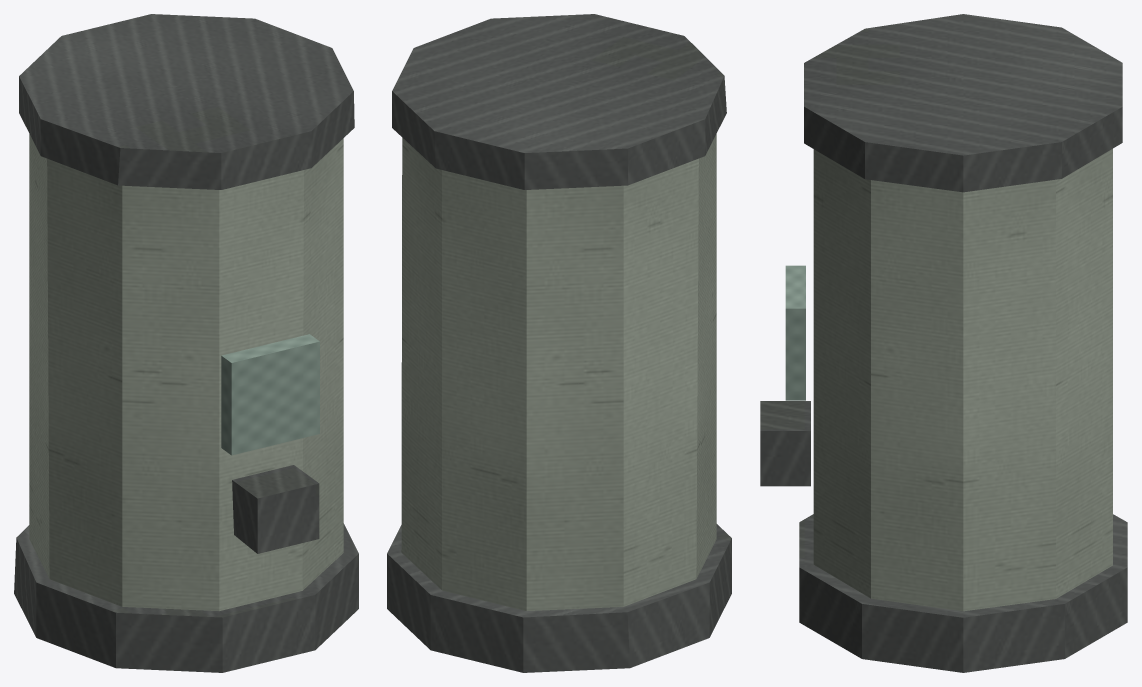
The model's file is coffeemachine_v1.glb.
3 views of the same model, side by side, from view 1: azimuth 30°, elevation 25°; view 2: azimuth 150°, elevation 25°; view 3: azimuth 270°, elevation 25° (orthographic).
Visible parts, largest first — view 1: Variant_coffeemachine_1; view 2: Variant_coffeemachine_1; view 3: Variant_coffeemachine_1.
Part boxes in pixels (x1,y1,x2,y2): Variant_coffeemachine_1: [14, 14, 358, 672]; Variant_coffeemachine_1: [387, 14, 731, 672]; Variant_coffeemachine_1: [760, 14, 1127, 672].
Size of the model in its own units: 0.34 by 0.56 by 0.3617.
Materials: 3 (3 with a texture image).
